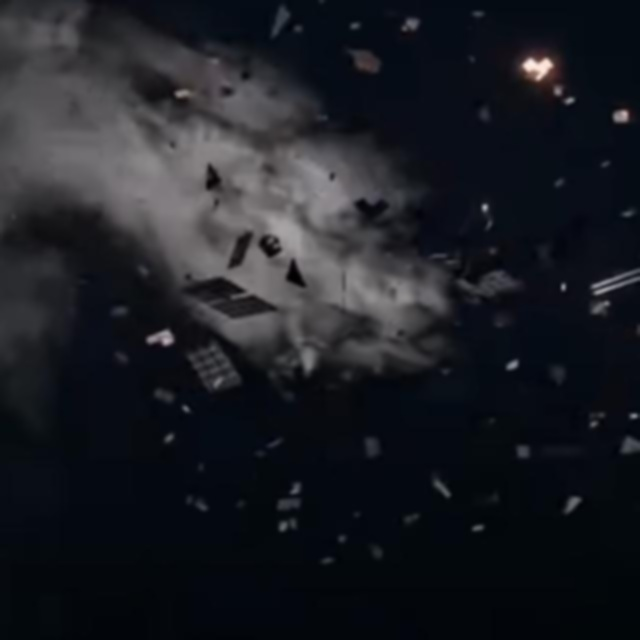large_debris: (176, 277, 277, 318), (185, 341, 243, 395), (455, 267, 517, 305), (591, 267, 640, 297), (221, 229, 254, 272), (348, 195, 389, 220), (348, 46, 384, 74), (268, 4, 291, 42), (281, 257, 307, 288), (143, 328, 177, 351), (200, 160, 223, 193), (523, 56, 553, 80), (258, 232, 284, 259), (360, 433, 381, 466), (274, 494, 302, 515), (431, 478, 455, 498), (618, 436, 640, 457), (561, 494, 581, 515), (517, 441, 530, 459), (613, 109, 629, 123)
